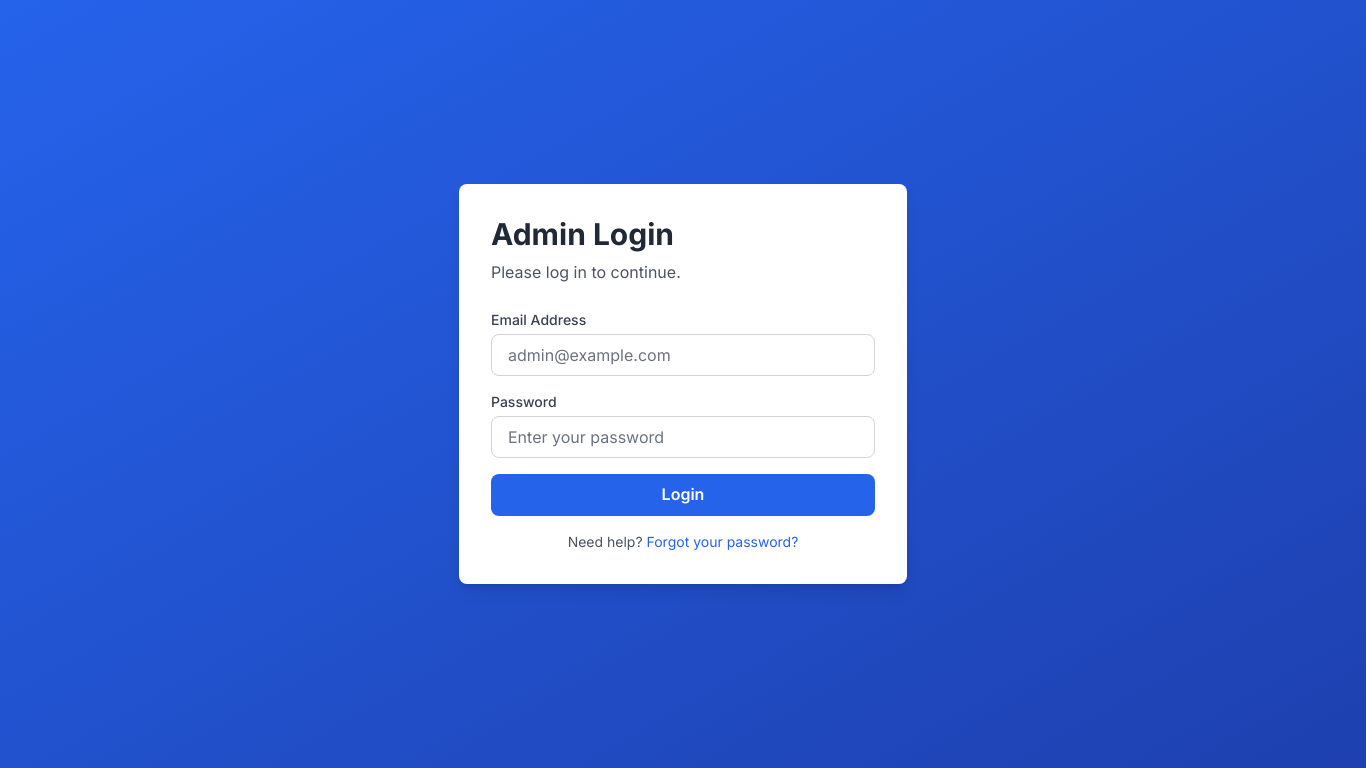
AdminLoginPage - Admin Login Function › should reject non-admin users from logging in
Type "student@example.com" into the field with placeholder "admin@example.com" at (683, 355), box left=491, top=334, right=875, bottom=376
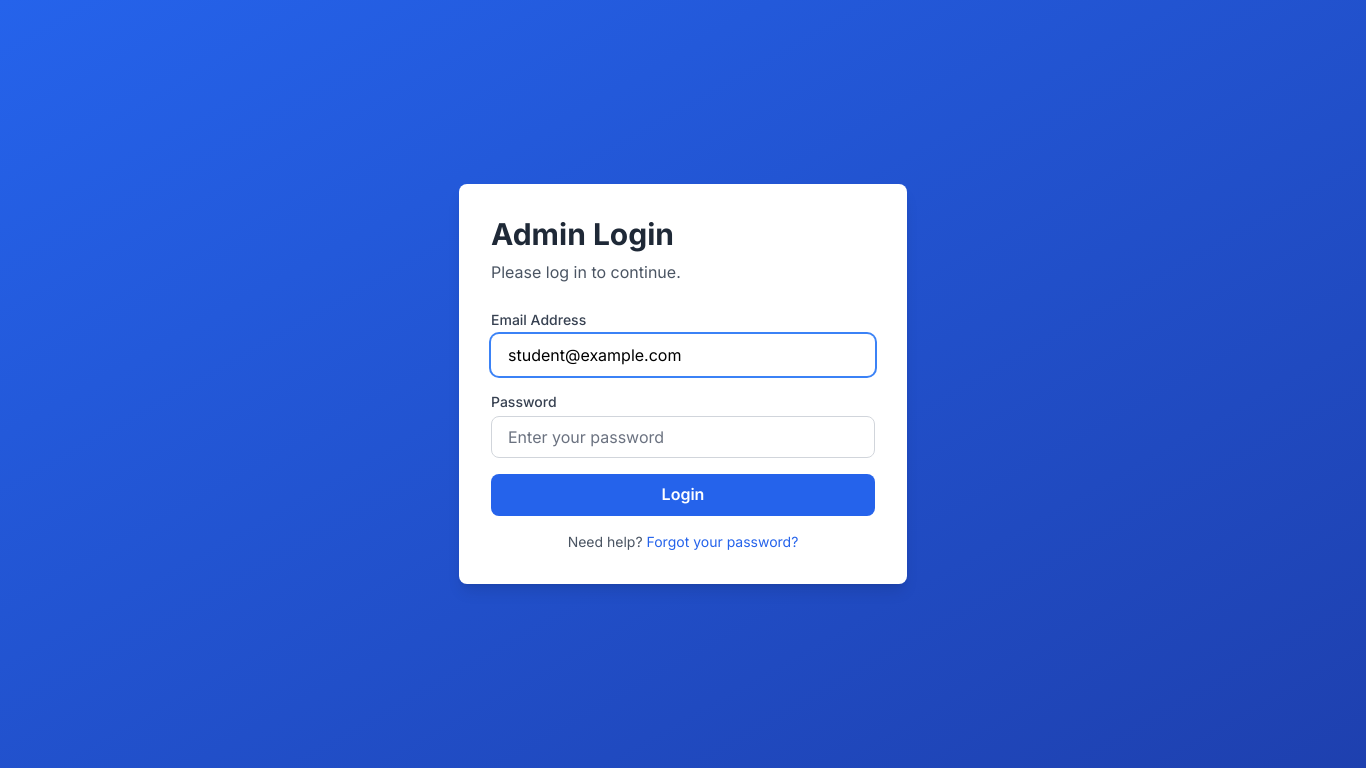
Type "StudentPassword123" into the password field with placeholder "Enter your password" at (683, 437), box left=491, top=416, right=875, bottom=458
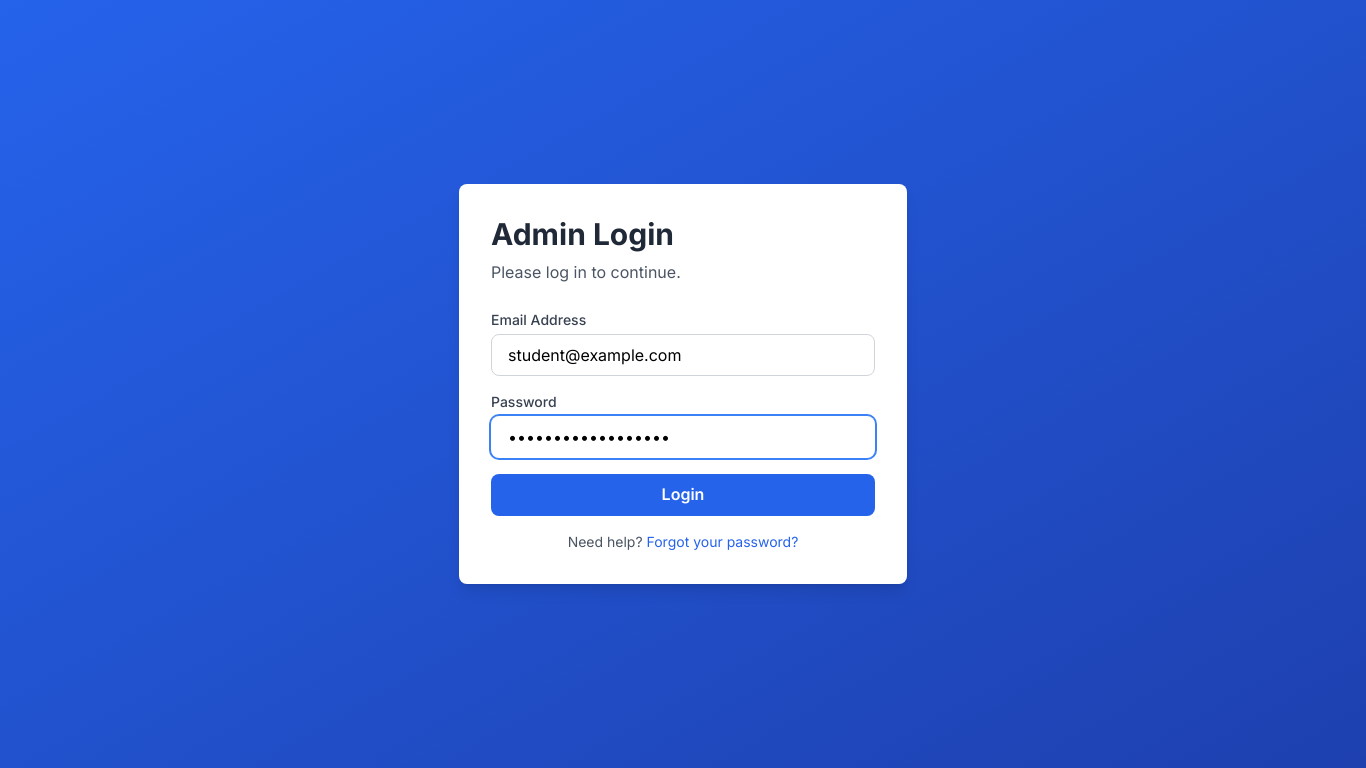
Click the button "Login" at (683, 495), box left=491, top=474, right=875, bottom=516
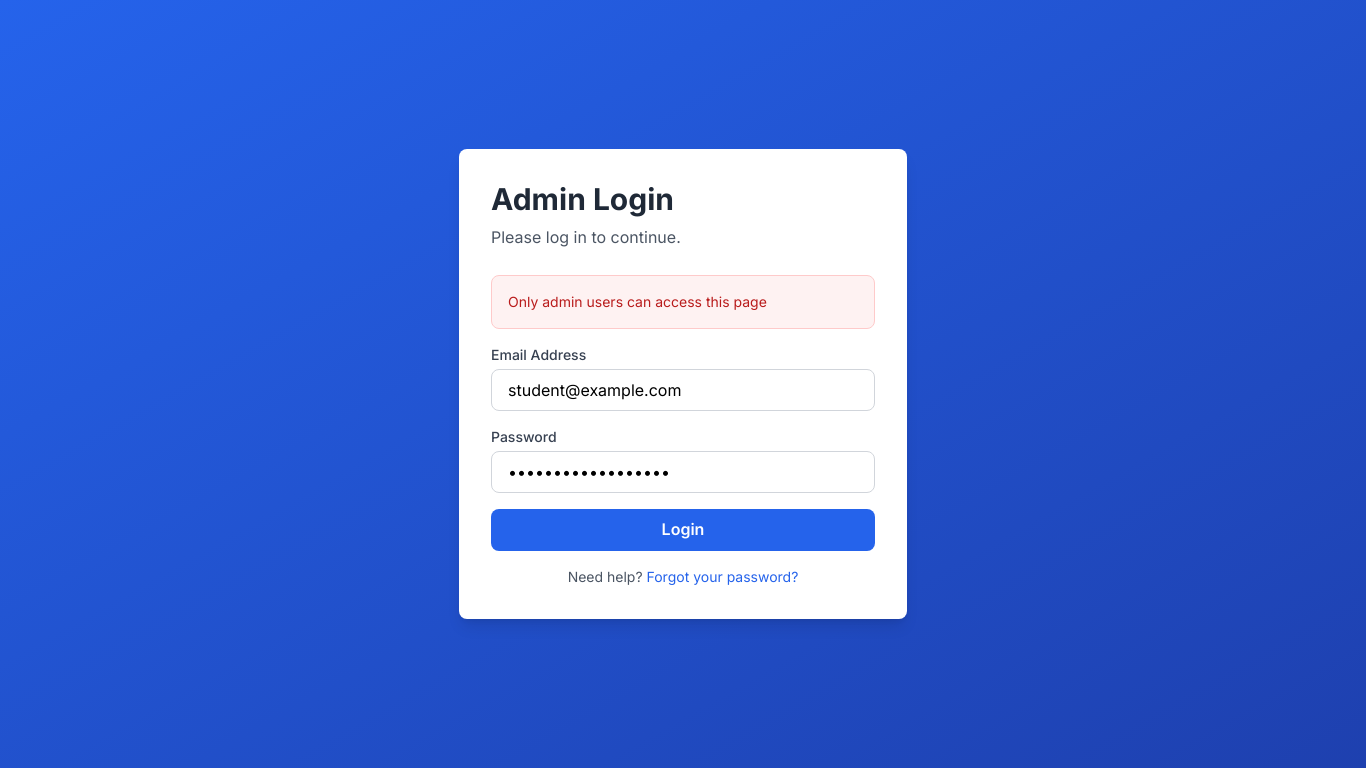
Check: the text "Only admin users can access this page" is shown, box left=508, top=293, right=767, bottom=310
